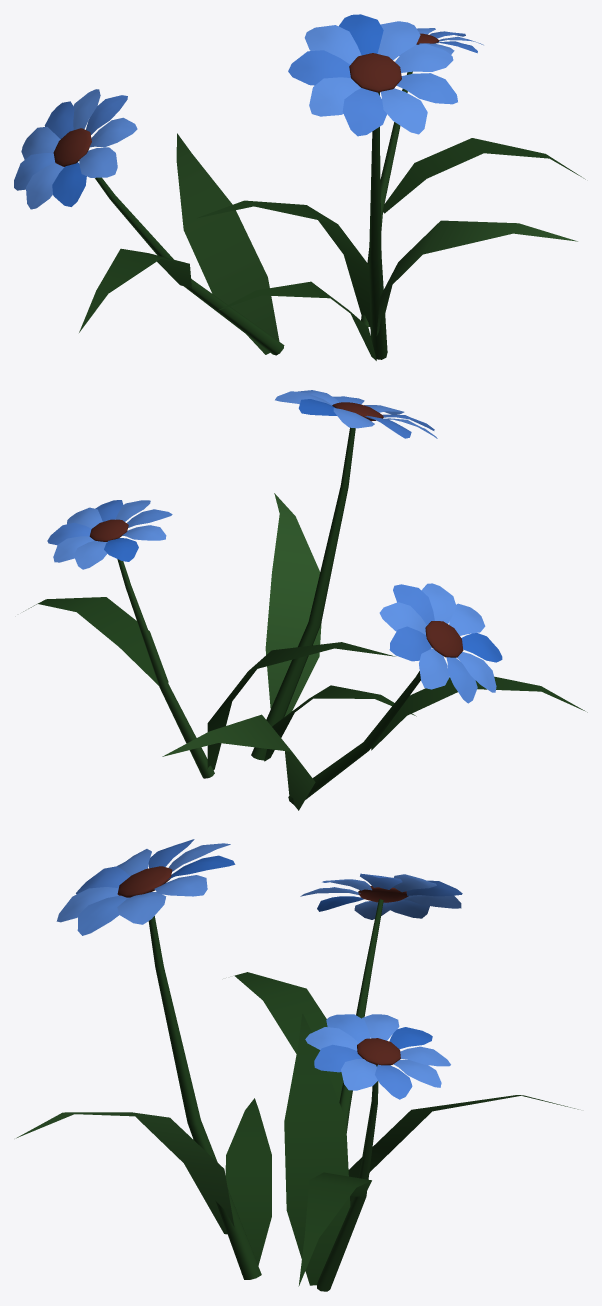
The model's file is blue_flower.fbx.
3 renders of one model, top to bottom at view 1: azimuth 30°, elevation 25°; view 2: azimuth 150°, elevation 25°; view 3: azimuth 270°, elevation 25°, orthographic. The views are drawn at different scales.
Visible parts, largest first — view 1: blue_plant; view 2: blue_plant; view 3: blue_plant.
Boxes of the visible parts, x1,y1,x2,y2 form: blue_plant: (14,14,585,360); blue_plant: (23,390,587,810); blue_plant: (16,839,578,1291).
Bounding box in the file's own units: 7.18 × 4.57 × 5.87.
